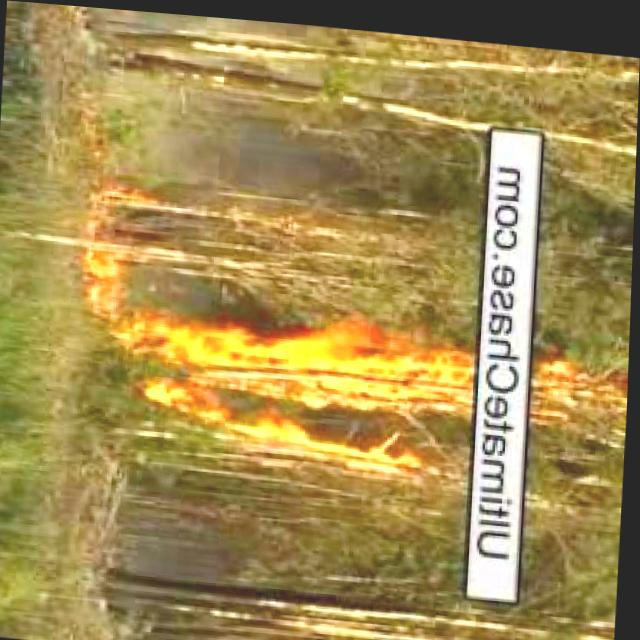Fire: (133, 300, 476, 477), (534, 345, 617, 420), (77, 227, 134, 318)
